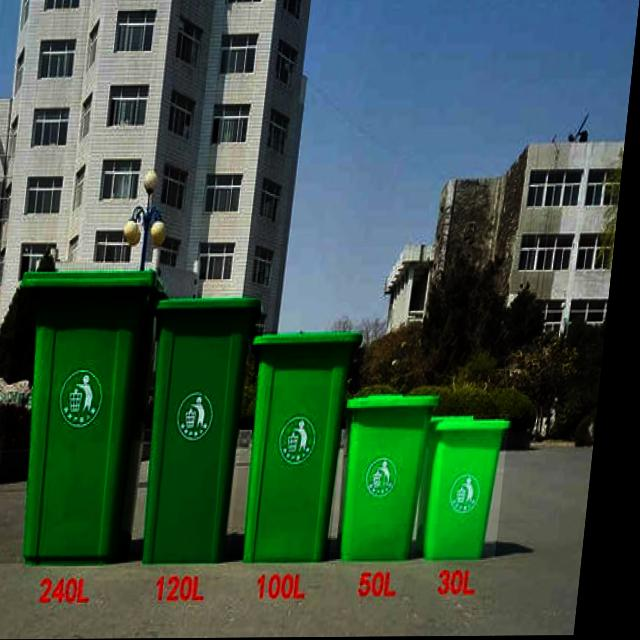garbage_bin: (3, 268, 166, 564), (140, 295, 269, 563), (241, 332, 370, 562), (341, 394, 449, 562), (422, 415, 519, 559)
